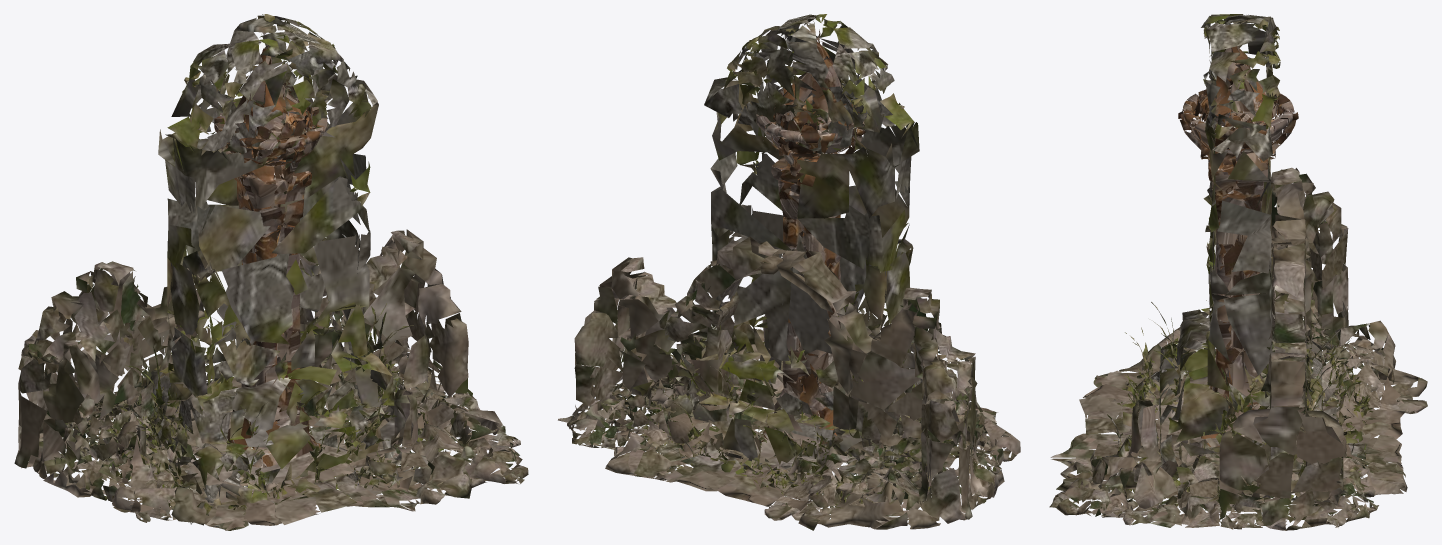
The model's file is props.glb.
3 views of the same model, side by side, from view 1: azimuth 30°, elevation 25°; view 2: azimuth 150°, elevation 25°; view 3: azimuth 270°, elevation 25° (orthographic). The views are drawn at different scales.
Parts seen in each view (by area): view 1: tombstone, arch, brazier; view 2: arch, tombstone, brazier; view 3: arch, tombstone, brazier.
Part boxes in pixels (<box>): tombstone: <box>95,14,446,524</box>; arch: <box>14,229,528,530</box>; brazier: <box>214,44,327,467</box>; arch: <box>558,236,1020,530</box>; tombstone: <box>640,14,986,508</box>; brazier: <box>756,29,866,462</box>; arch: <box>1049,167,1427,530</box>; tombstone: <box>1104,14,1373,501</box>; brazier: <box>1178,46,1298,457</box>.
Size of the model in its own units: 1.89 by 1.9 by 1.52.
3 materials, 3 textured.
